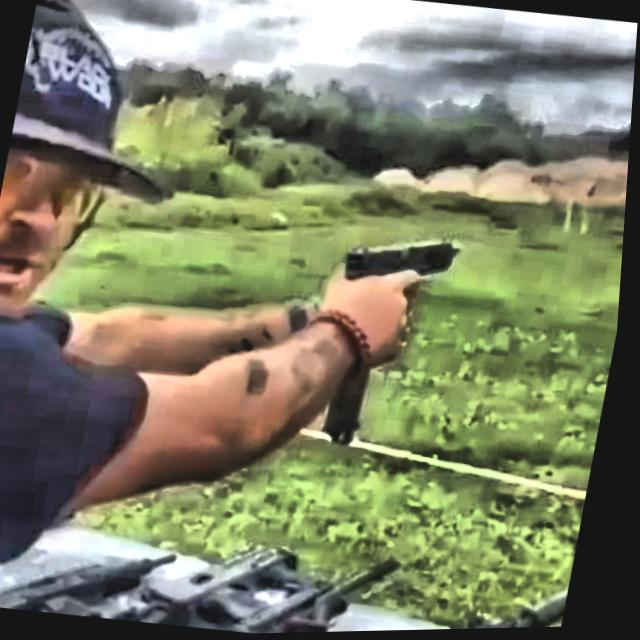pistol: (316, 223, 470, 456)
